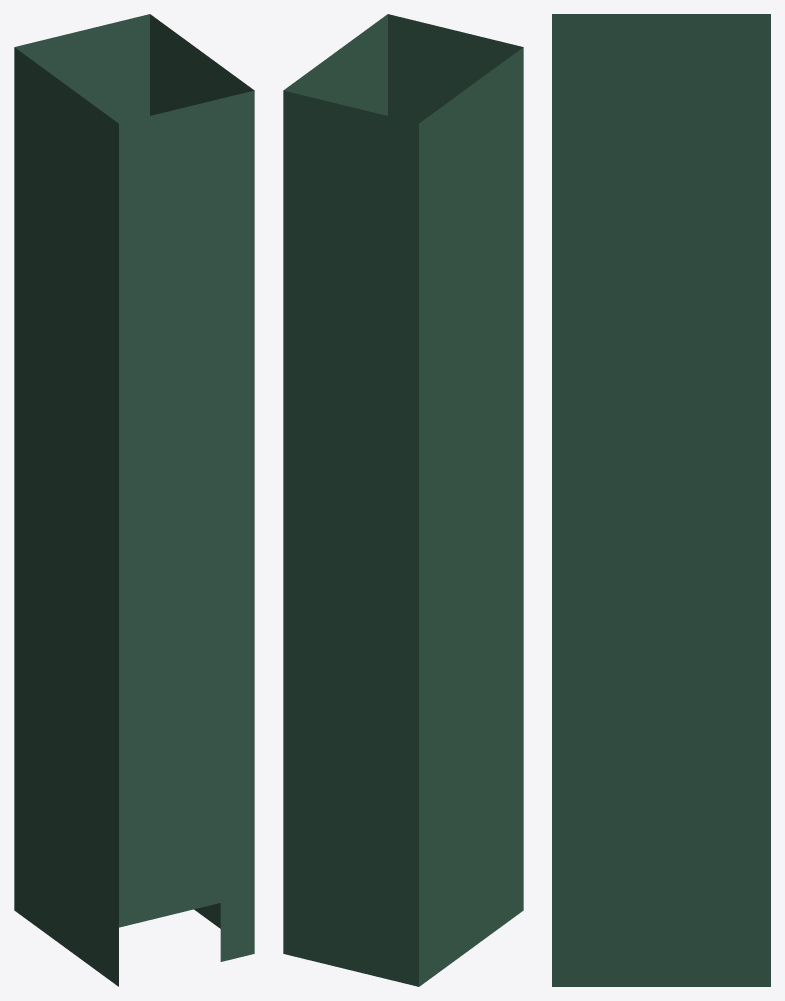
Rendered from 1546-Buildings-shell-pieces-facade-bay-wall-round-an-opening-reveals-sill-head-emitBa.glb.
3 renders of one model, left to right at view 1: azimuth 30°, elevation 25°; view 2: azimuth 150°, elevation 25°; view 3: azimuth 270°, elevation 25°, orthographic. The views are drawn at different scales.
Parts seen in each view (by area): view 1: emitBay; view 2: emitBay; view 3: emitBay.
Part boxes in pixels (x1,y1,x2,y2): emitBay: (14,14,254,986); emitBay: (283,14,523,986); emitBay: (552,14,770,986).
Bounding box in the file's own units: 12 × 72.93 × 16.
